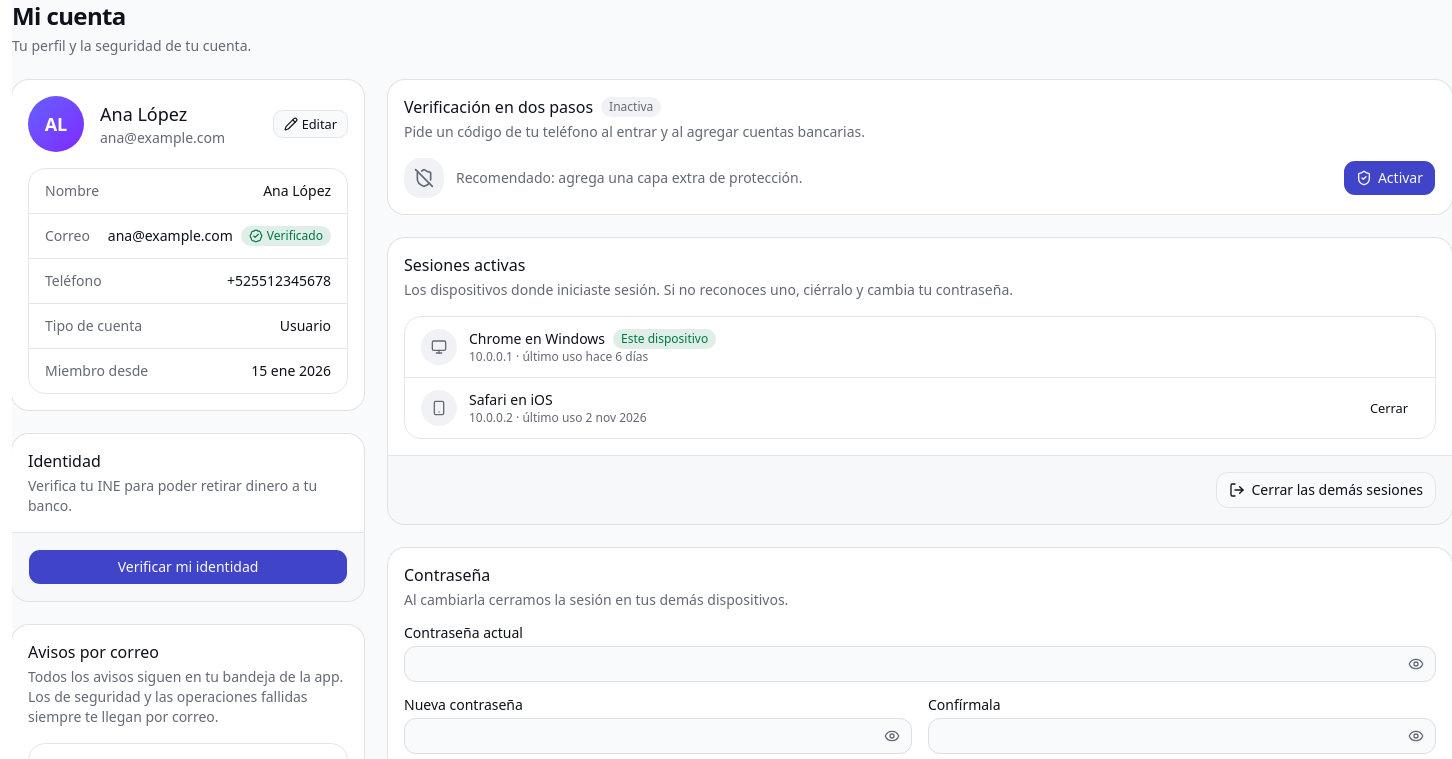
Scenario: SettingsPage › password › refuses the same password and a mismatched confirmation
The image size is (1452, 759).
Type "misma frase muy larga" into the password field labelled "Contraseña actual". click: {"x": 920, "y": 664}
box: left=404, top=646, right=1436, bottom=682
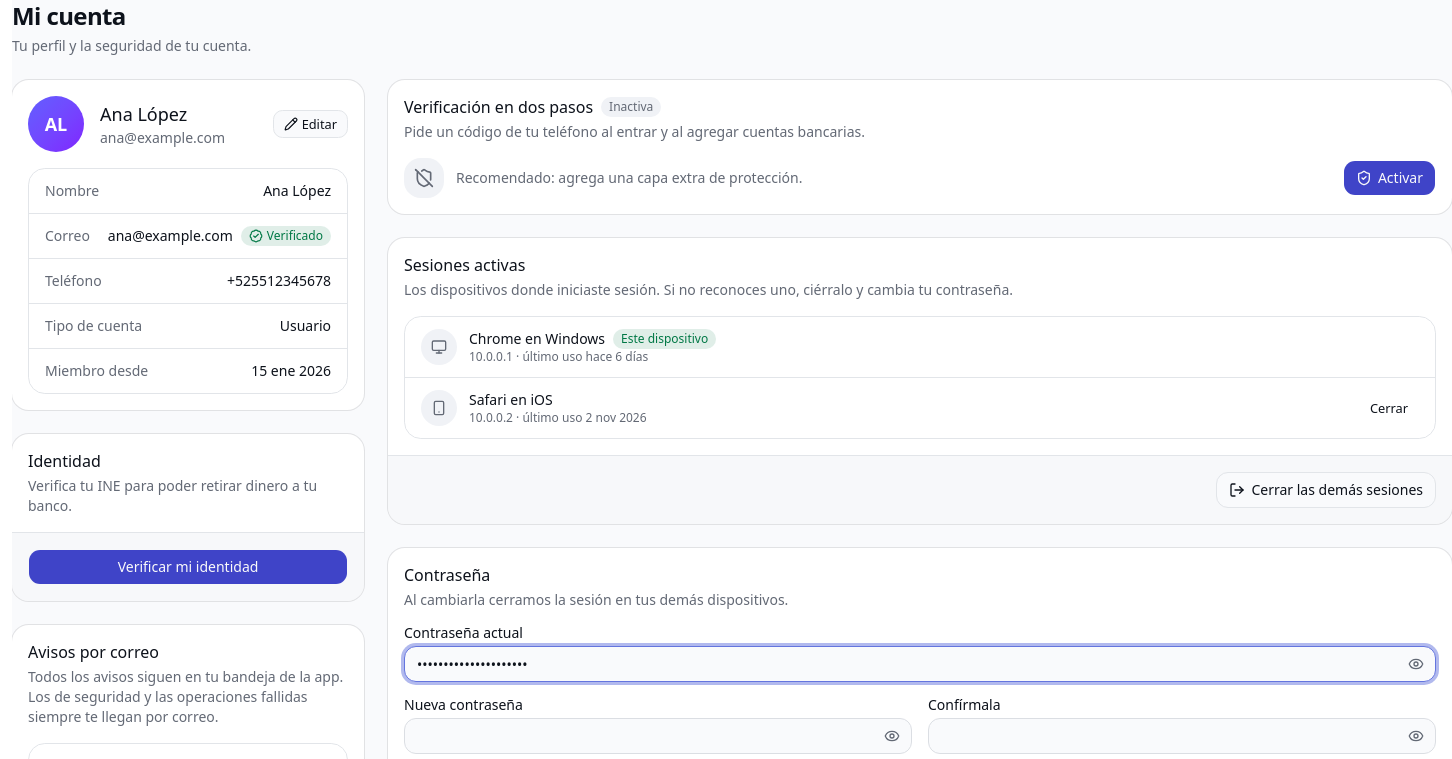
Type "misma frase muy larga" into the password field labelled "Nueva contraseña". click: {"x": 658, "y": 736}
box: left=404, top=718, right=912, bottom=754
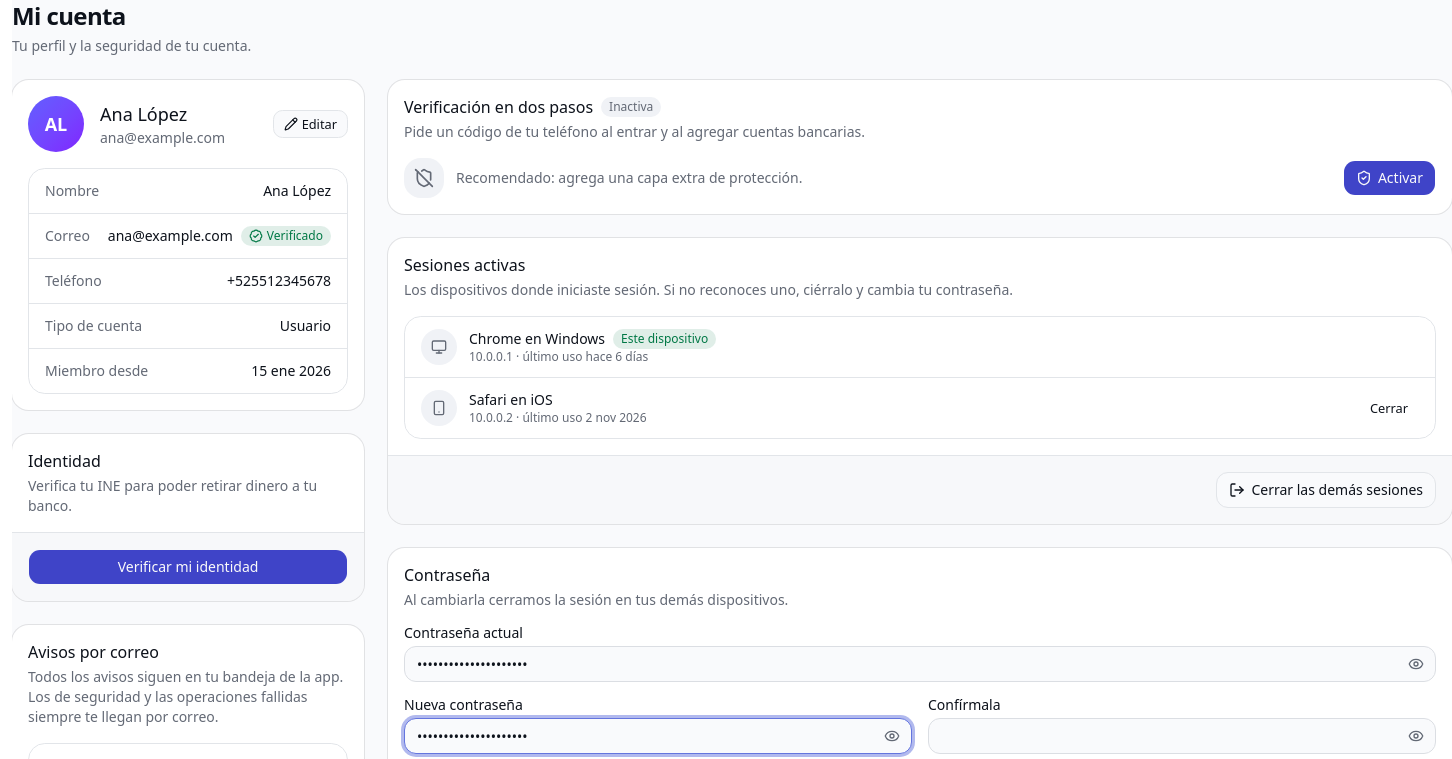
Type "otra" into the password field labelled "Confírmala". click: {"x": 1182, "y": 736}
box: left=928, top=718, right=1436, bottom=754
(page scrolled)
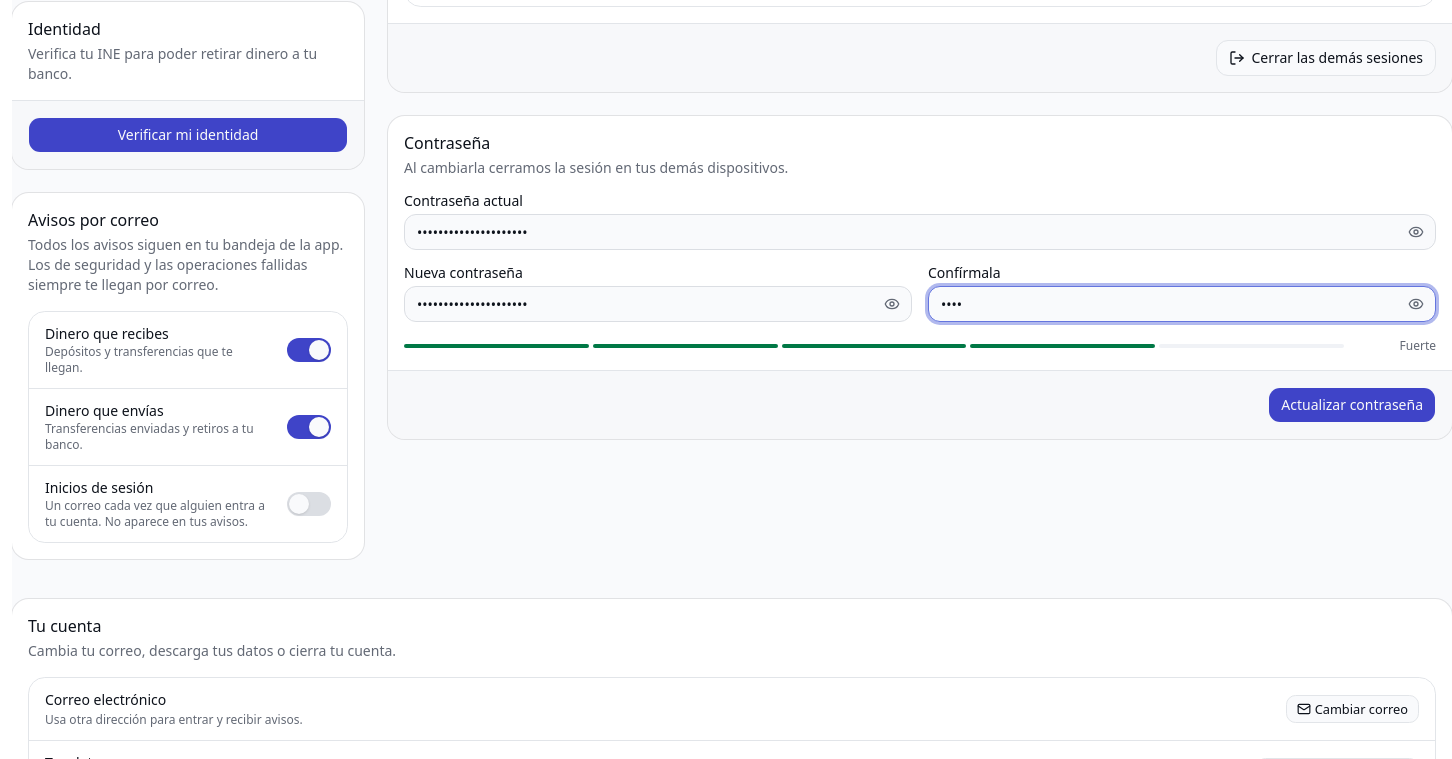
Click the button "Actualizar contraseña". click: {"x": 1352, "y": 405}
box: left=1268, top=387, right=1436, bottom=423
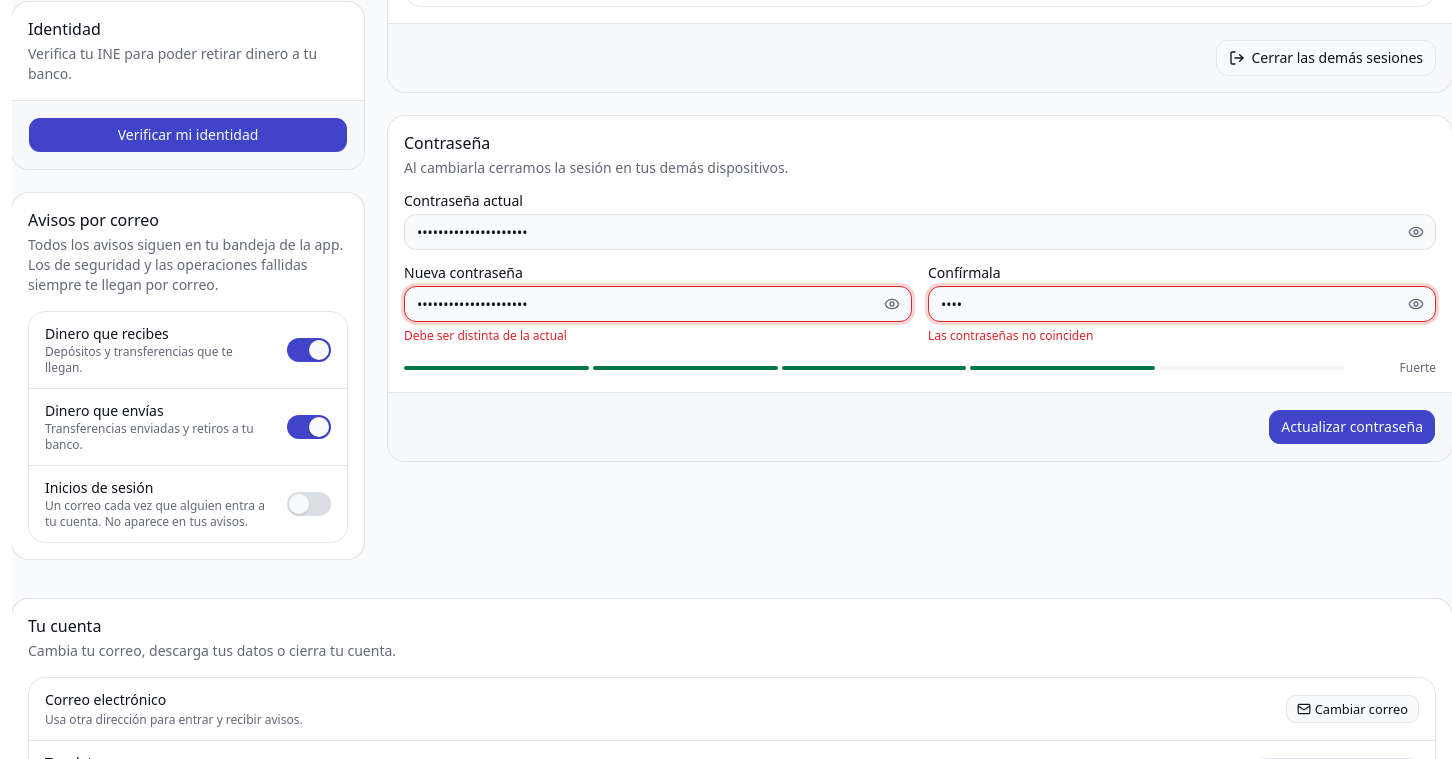
expect the text "Debe ser distinta de la actual" is shown: met, box left=404, top=327, right=567, bottom=344
expect the text "Las contraseñas no coinciden" is shown: met, box left=928, top=327, right=1093, bottom=344
